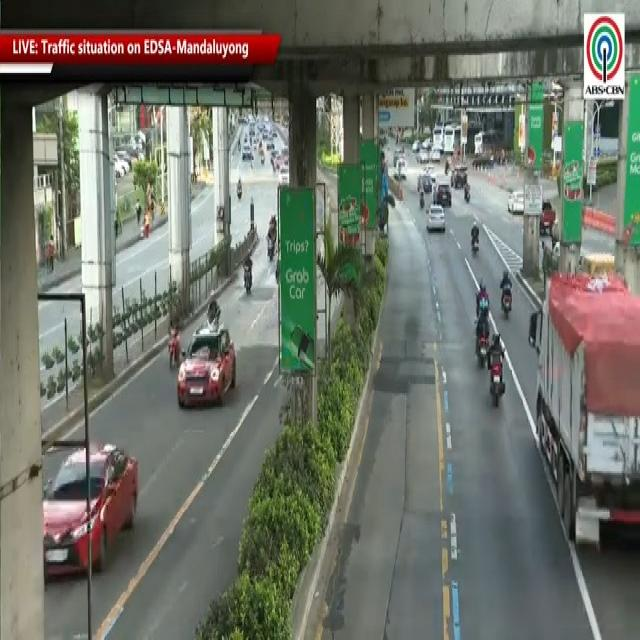car: (30, 439, 148, 589), (176, 325, 243, 409), (422, 202, 444, 235), (435, 180, 453, 212)
motorbike: (481, 319, 511, 431), (203, 278, 224, 352), (472, 304, 492, 378), (159, 314, 178, 377), (235, 246, 254, 308), (473, 278, 492, 339), (496, 258, 515, 316), (467, 217, 486, 266)
truck: (520, 240, 640, 592)
